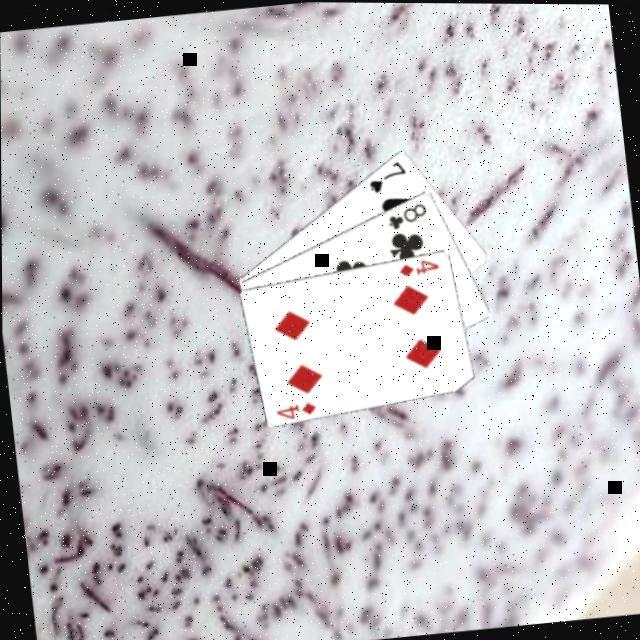4D: (396, 254, 444, 280), (274, 398, 322, 424)
7S: (364, 158, 412, 198)
8C: (384, 199, 433, 234)
